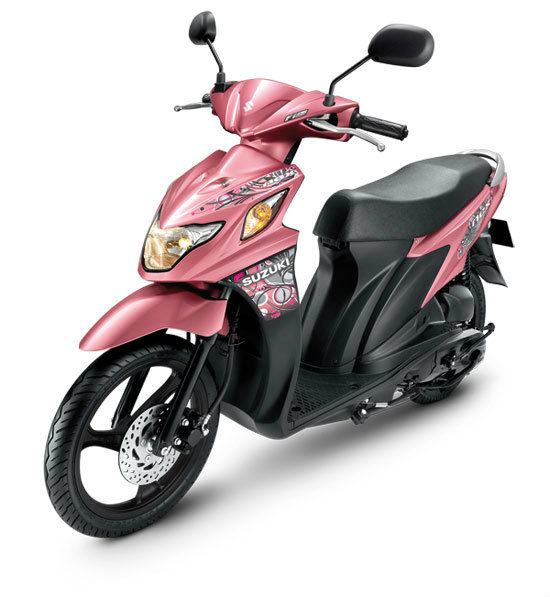motorcycle: (51, 74, 512, 537)
